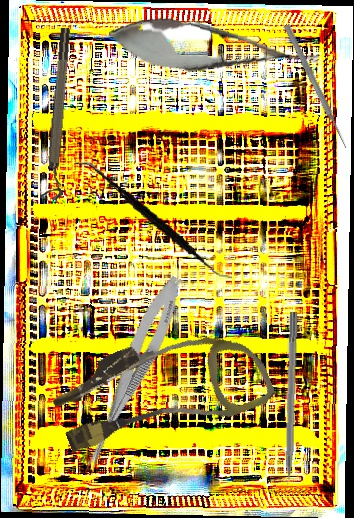Cannula: (44, 302, 278, 478)
Fixation Ring: (40, 27, 80, 201)
Micro Scissor: (76, 270, 190, 481), (105, 9, 322, 86)
Pusher: (282, 23, 350, 150), (280, 311, 299, 506)
Spatula Surgical: (62, 160, 244, 282)
